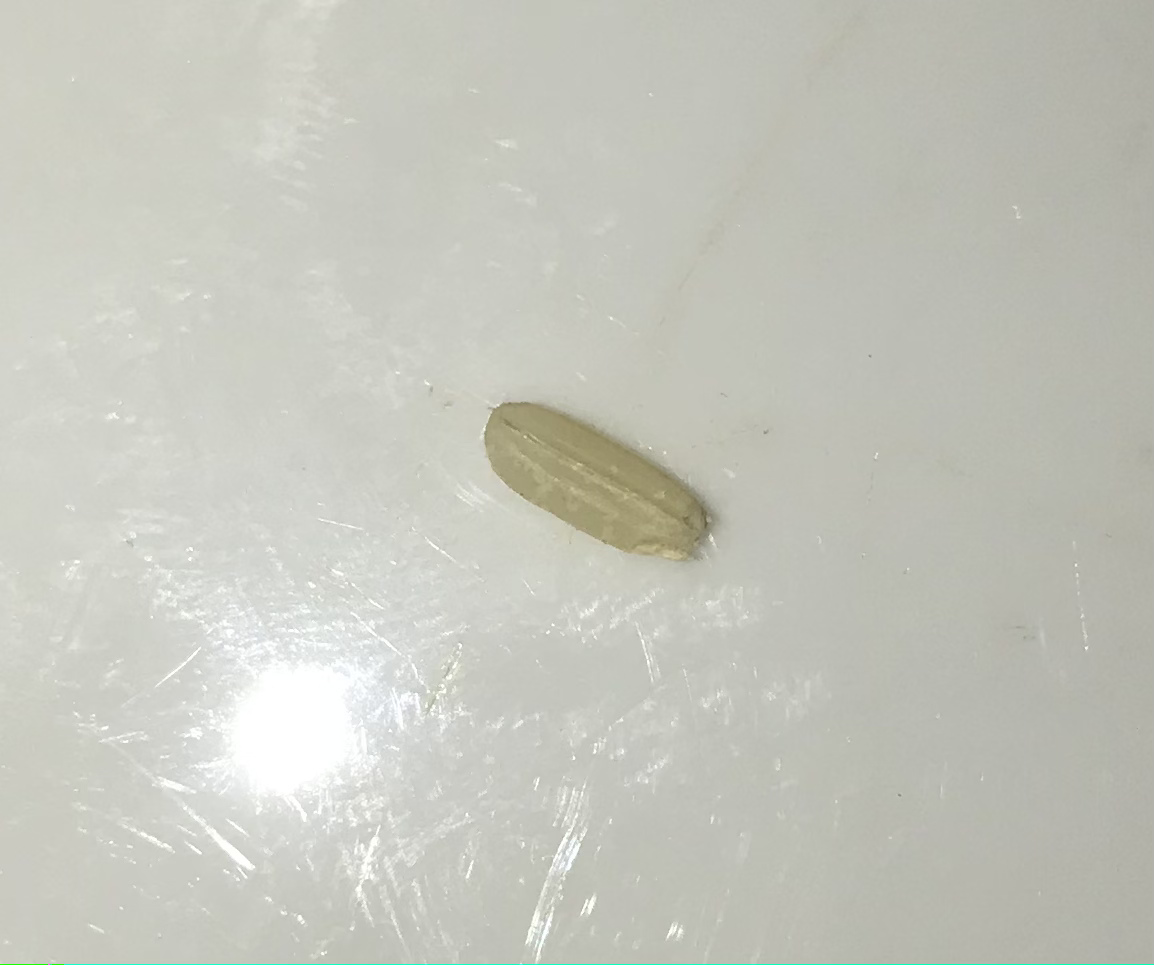Gao Lut Trang: (461, 378, 720, 573)
